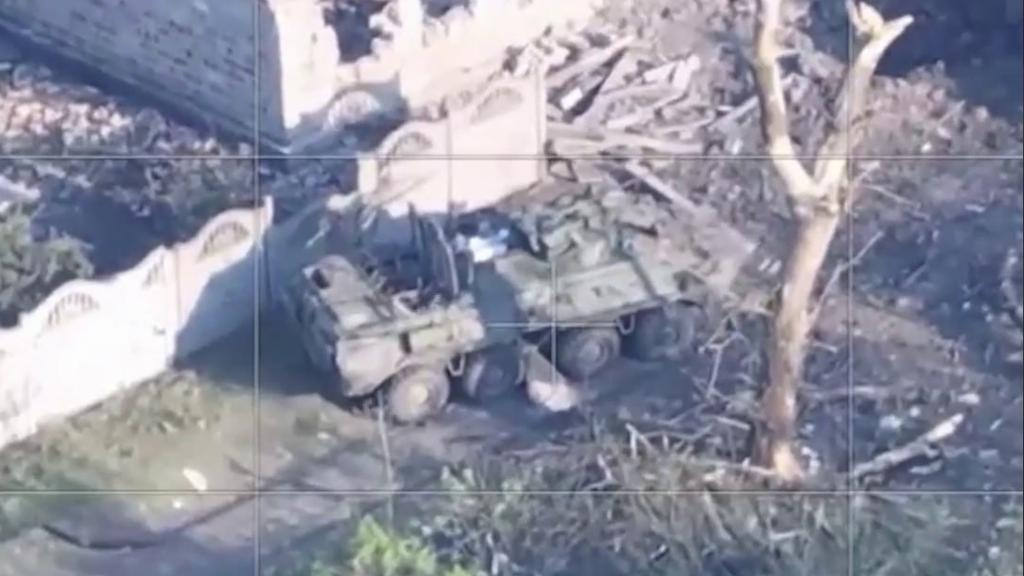APC-IFV: (281, 146, 719, 424)
